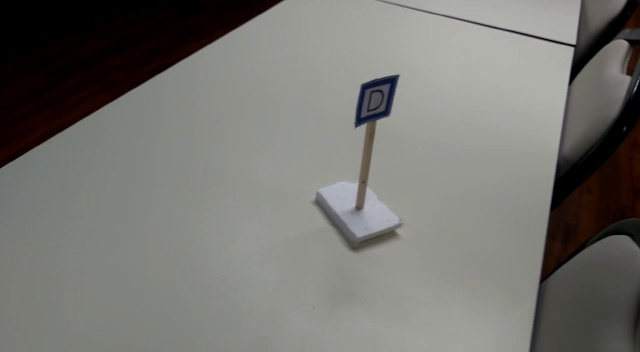durak: (354, 73, 400, 126)
